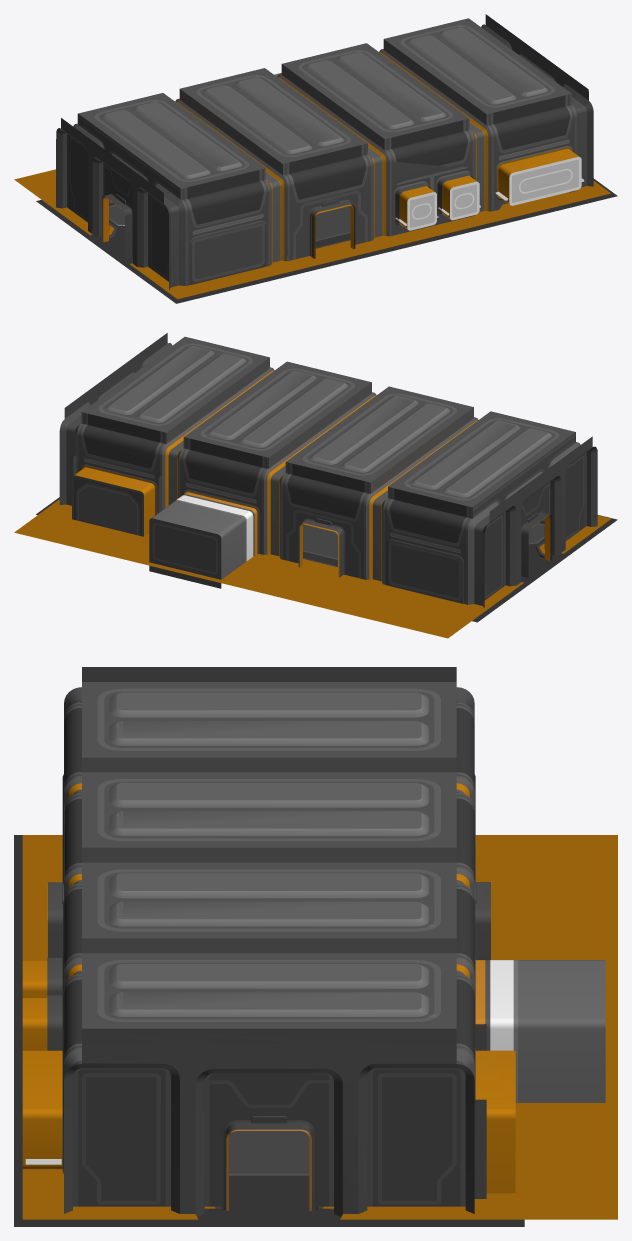
Rendered from lvl_lobby.fbx.
3 views of the same model, one above another, from view 1: azimuth 30°, elevation 25°; view 2: azimuth 150°, elevation 25°; view 3: azimuth 270°, elevation 25° (orthographic). The views are drawn at different scales.
Visible parts, largest first — view 1: lvl_lobby.002, lvl_lobby.012, lvl_lobby.007, lvl_lobby.009, lvl_lobby.001, lvl_lobby.010, lvl_lobby.003, lvl_lobby.004, lvl_lobby.005, lvl_lobby.008; view 2: lvl_lobby.002, lvl_lobby.012, lvl_lobby.007, lvl_lobby.009, lvl_lobby.011, lvl_lobby.008, lvl_lobby.003, lvl_lobby.004, lvl_lobby.001, lvl_lobby.005, lvl_lobby.013; view 3: lvl_lobby.002, lvl_lobby.007, lvl_lobby.009, lvl_lobby.008, lvl_lobby.012, lvl_lobby.001, lvl_lobby.004, lvl_lobby.003, lvl_lobby.005, lvl_lobby.013.
Boxes of the visible parts, x1,y1,x2,y2 form: lvl_lobby.002: [78, 18, 571, 188]; lvl_lobby.012: [73, 49, 576, 285]; lvl_lobby.007: [56, 14, 593, 289]; lvl_lobby.009: [14, 169, 610, 299]; lvl_lobby.001: [36, 176, 617, 303]; lvl_lobby.010: [407, 157, 581, 230]; lvl_lobby.003: [277, 64, 389, 240]; lvl_lobby.004: [175, 89, 287, 264]; lvl_lobby.005: [379, 39, 491, 215]; lvl_lobby.008: [274, 73, 579, 258]; lvl_lobby.002: [82, 336, 575, 507]; lvl_lobby.012: [73, 367, 580, 604]; lvl_lobby.007: [59, 333, 597, 608]; lvl_lobby.009: [14, 499, 611, 638]; lvl_lobby.011: [72, 475, 221, 588]; lvl_lobby.008: [74, 466, 339, 579]; lvl_lobby.003: [264, 382, 376, 558]; lvl_lobby.004: [366, 407, 478, 583]; lvl_lobby.001: [36, 497, 617, 622]; lvl_lobby.005: [162, 357, 274, 509]; lvl_lobby.013: [176, 495, 253, 560]; lvl_lobby.002: [82, 682, 456, 1028]; lvl_lobby.007: [64, 667, 474, 1216]; lvl_lobby.009: [22, 835, 617, 1219]; lvl_lobby.008: [22, 885, 605, 1193]; lvl_lobby.012: [47, 702, 490, 1198]; lvl_lobby.001: [14, 835, 524, 1226]; lvl_lobby.004: [64, 757, 474, 879]; lvl_lobby.003: [64, 847, 474, 898]; lvl_lobby.005: [64, 938, 474, 988]; lvl_lobby.013: [490, 960, 513, 1050].
Bounding box in the file's own units: 2598 × 590 × 1692.
